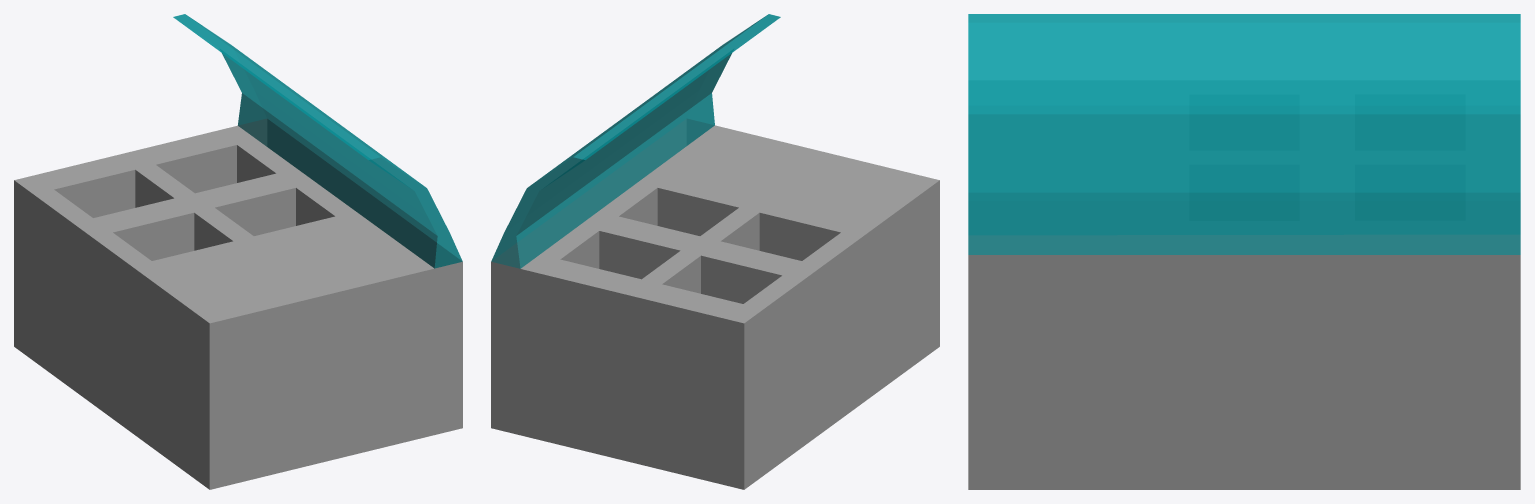
Rendered from fitrine1.fbx.
3 views of the same model, side by side, from view 1: azimuth 30°, elevation 25°; view 2: azimuth 150°, elevation 25°; view 3: azimuth 270°, elevation 25° (orthographic). The views are drawn at different scales.
Visible parts, largest first — view 1: kantineKoeler1; view 2: kantineKoeler1; view 3: kantineKoeler1.
Part boxes in pixels (box(x1,y1,x2,y2)): kantineKoeler1: box(14, 14, 462, 489); kantineKoeler1: box(491, 14, 939, 489); kantineKoeler1: box(968, 14, 1520, 489).
Size of the model in its own units: 8.52 by 9.36 by 11.41.
